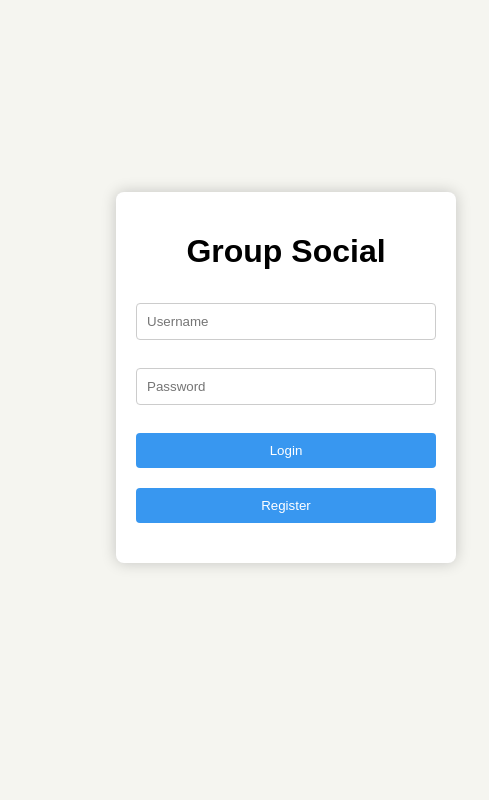
Scenario: switches to Register view when Register button is clicked
The image size is (489, 800).
Click the button "Register" at (286, 506), box [136,488,436,523]
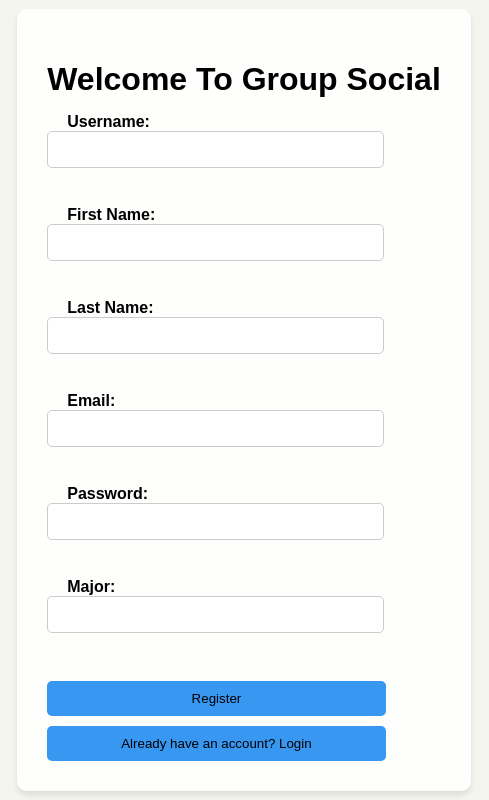
Expected: the heading "Welcome To Group Social" is shown, [47,61,441,98]
